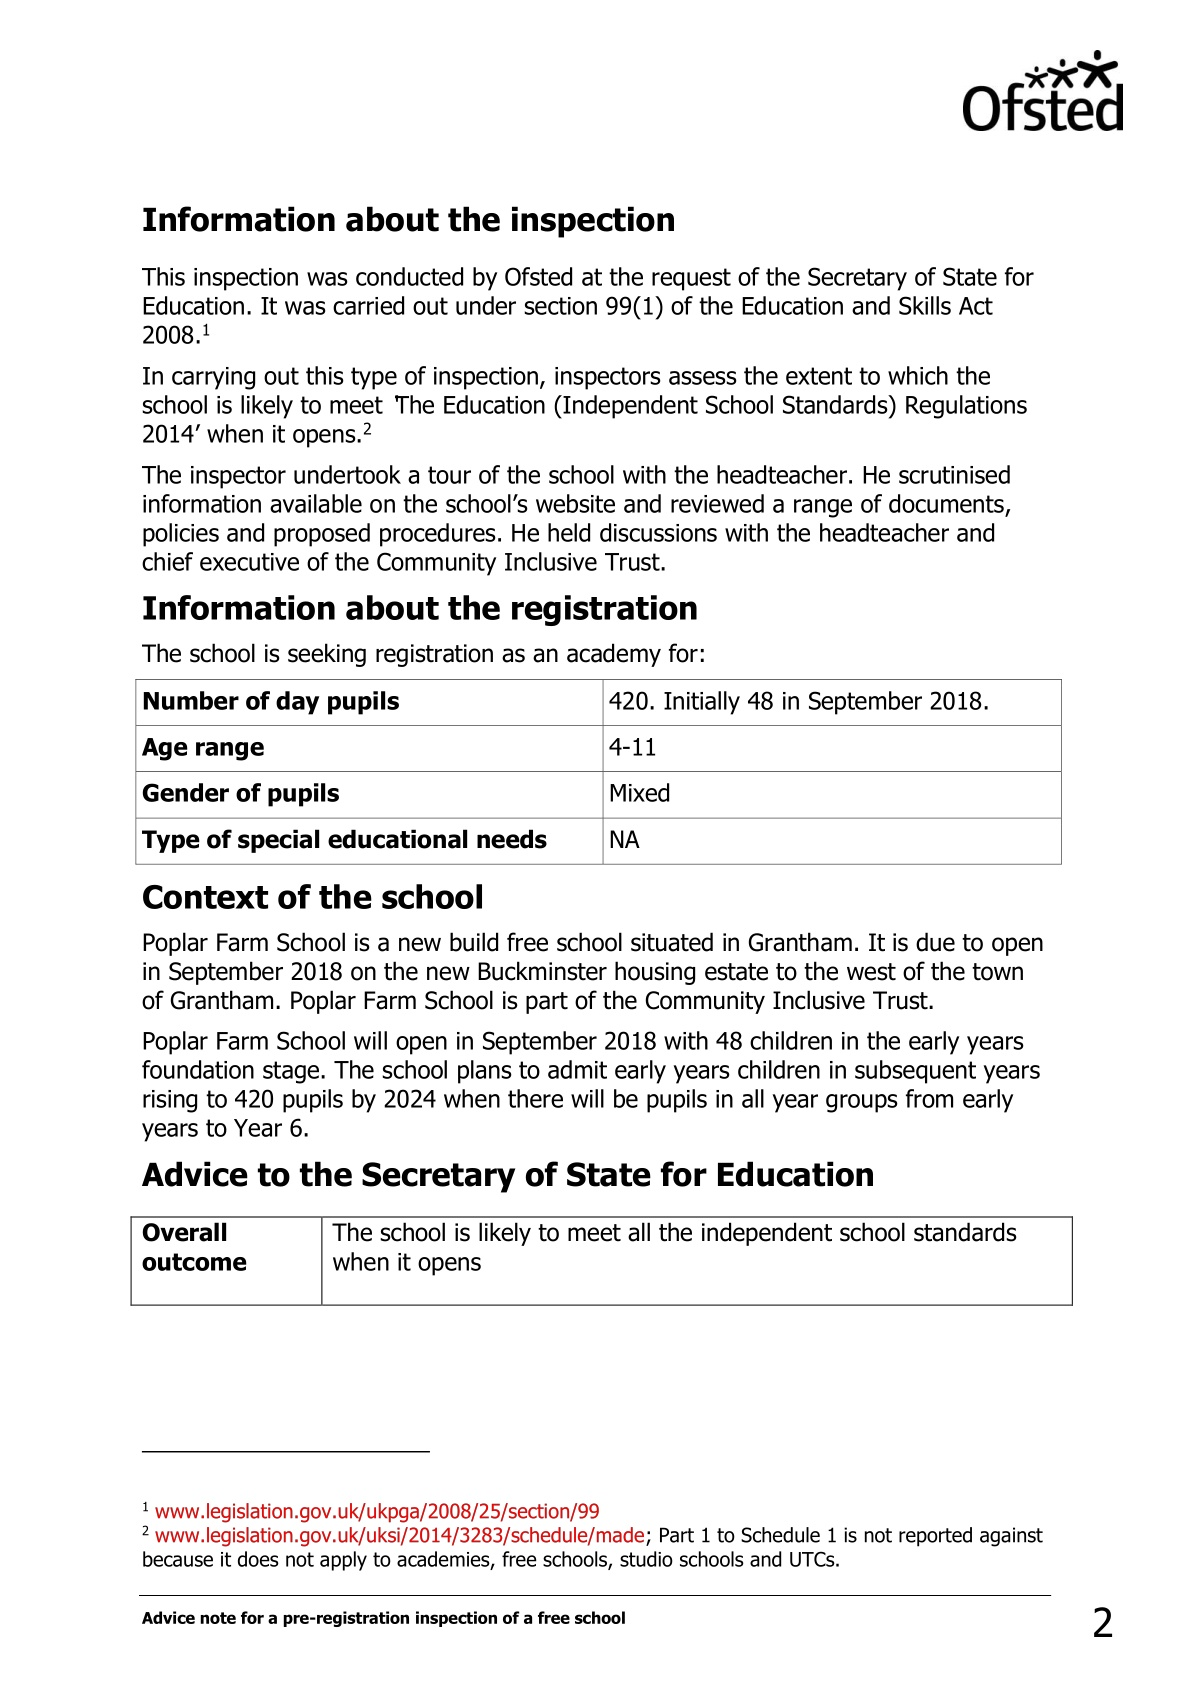full_lined: (134, 677, 1062, 865), (130, 1215, 1074, 1307)
